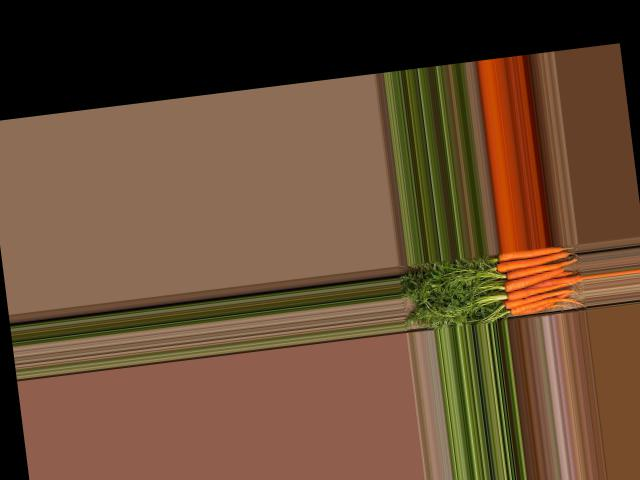carrot: (494, 244, 569, 265)
